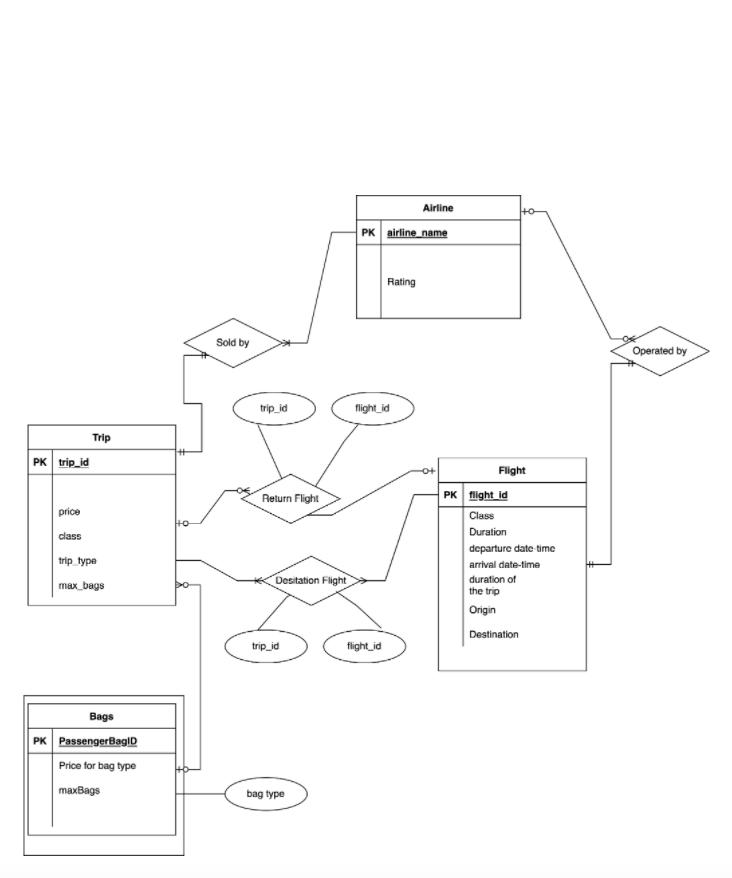attribute: (224, 627, 310, 665), (322, 628, 407, 664), (331, 391, 415, 427), (230, 391, 315, 426), (225, 777, 308, 810)
entity: (437, 458, 588, 672), (23, 425, 179, 608), (354, 190, 524, 323)
relationship: (181, 316, 284, 369), (612, 323, 709, 376), (261, 557, 365, 605), (241, 476, 339, 524)
weakentity: (21, 693, 186, 858)
